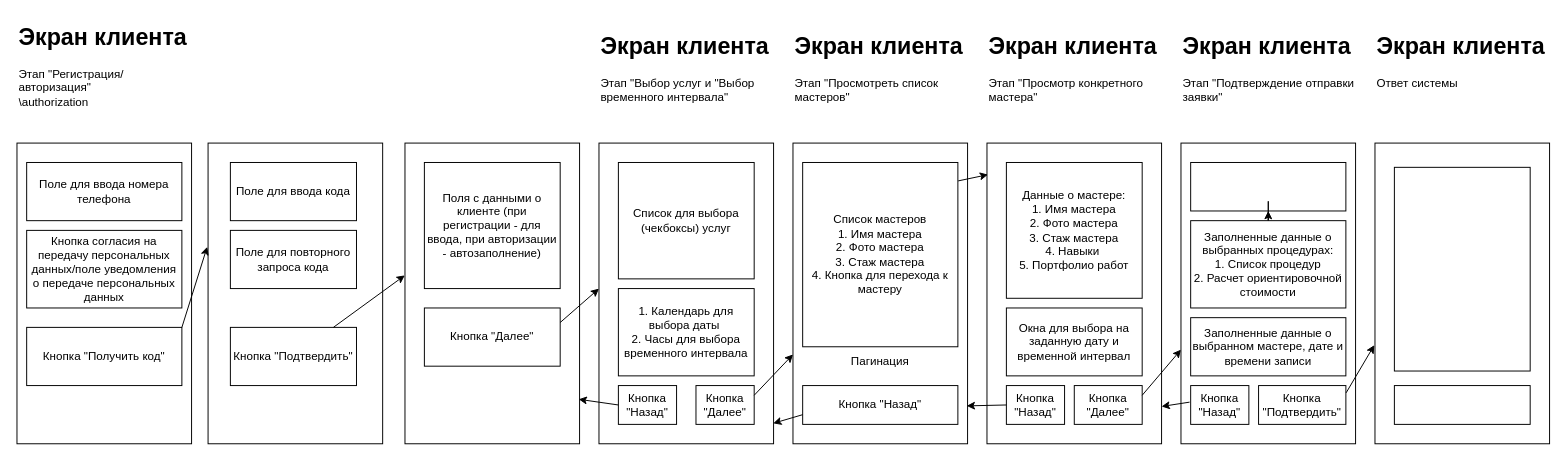
The diagram is 1567 pixels wide and 461 high, and some of its shapes have lost their labels. The centre of each missing label's shape, as x and y in pixels:
Заполненные данные о клиенте: 1. ФИО 2. Номер телефона: point 1268,186
Кнопка "Выход": point 1461,404
Состояние заявки: "Заявка успешно отправлена"/"Возникла техническая ошибка": point 1461,268
